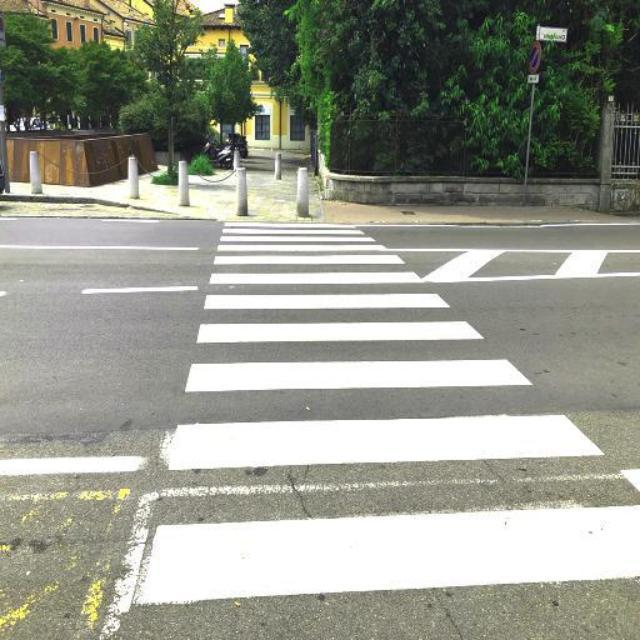sidewalk: (132, 221, 640, 619)
